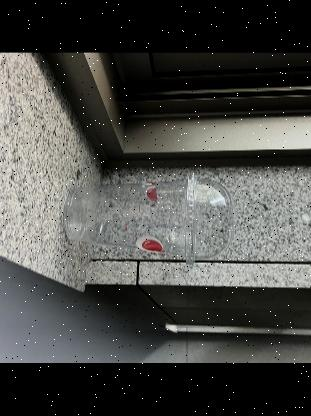Others: (61, 172, 232, 266), (182, 172, 231, 268)
